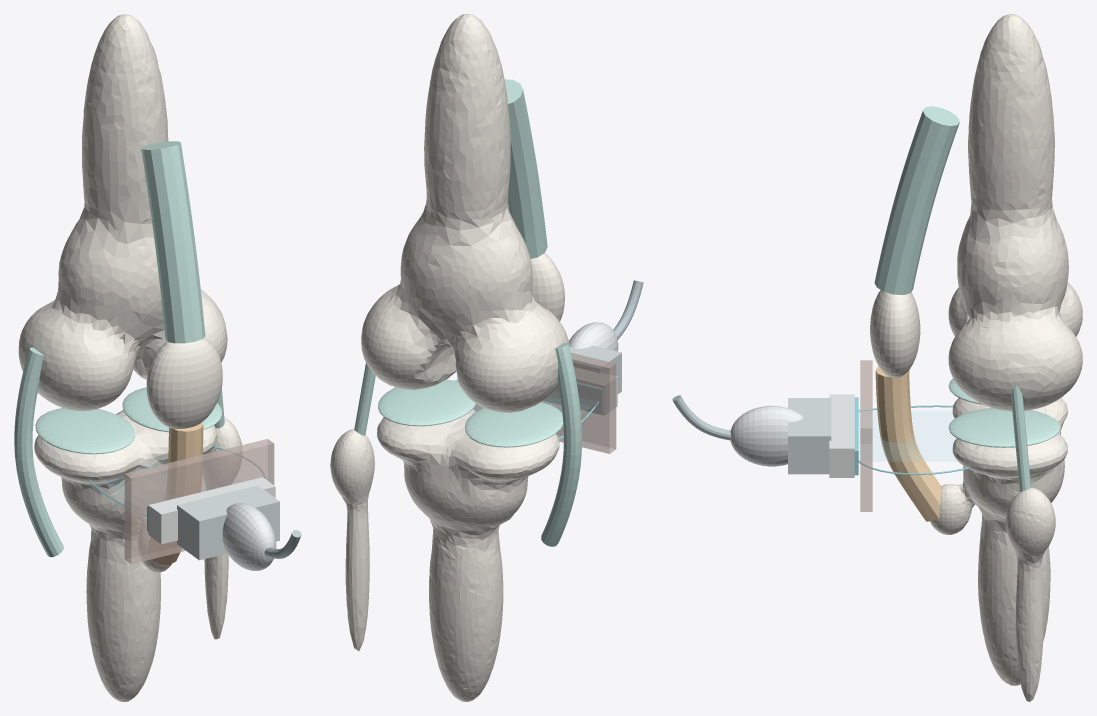
The model's file is knee-short.glb.
3 renders of one model, left to right at view 1: azimuth 30°, elevation 25°; view 2: azimuth 150°, elevation 25°; view 3: azimuth 270°, elevation 25°, orthographic. The views are drawn at different scales.
Visible parts, largest first — view 1: Femur, Tibia, Quadriceps tendon, Local skin contact patch - surrounding skin omitted, Patella - anatomical position, Medial collateral ligament, Transducer body, Tibial articular surface -0.35, Fibula, Patellar tendon, Transducer grip, Transducer head (+2 smaller); view 2: Femur, Tibia, Fibula, Quadriceps tendon, Local skin contact patch - surrounding skin omitted, Medial collateral ligament, Tibial articular surface -0.35, Tibial articular surface 0.35, Patella - anatomical position, Transducer body, Transducer grip, Transducer head (+3 smaller); view 3: Femur, Tibia, Quadriceps tendon, Fibula, Patellar tendon, Patella - anatomical position, Transducer body, Transducer grip, Tibial articular surface 0.35, Illustrative imaging plane - not a simulated sonogram, Transducer head, Local skin contact patch - surrounding skin omitted (+2 smaller).
Part boxes in pixels (x1,y1,x2,y2): Femur: (18,14,227,411); Tibia: (34,410,217,701); Quadriceps tendon: (141,141,205,343); Local skin contact patch - surrounding skin omitted: (124,439,274,564); Patella - anatomical position: (146,337,222,428); Medial collateral ligament: (14,347,63,557); Transducer body: (177,485,279,560); Tibial articular surface -0.35: (35,408,134,454); Fibula: (203,417,241,639); Patellar tendon: (147,422,203,564); Transducer grip: (222,503,276,570); Transducer head: (148,477,275,544); Femur: (361,14,569,412); Tibia: (377,409,559,701); Fibula: (330,429,374,651); Quadriceps tendon: (504,79,547,258); Local skin contact patch - surrounding skin omitted: (473,352,616,453); Medial collateral ligament: (541,343,581,546); Tibial articular surface -0.35: (465,402,563,447); Tibial articular surface 0.35: (378,379,475,426); Patella - anatomical position: (530,253,564,321); Transducer body: (568,339,621,394); Transducer grip: (569,322,618,351); Transducer head: (574,367,617,415); Femur: (948,14,1082,411); Tibia: (930,397,1067,685); Quadriceps tendon: (874,106,959,294); Fibula: (1006,487,1055,701); Patellar tendon: (875,366,941,521); Patella - anatomical position: (870,290,920,377); Transducer body: (788,398,831,474); Transducer grip: (730,405,803,466); Tibial articular surface 0.35: (948,408,1060,447); Illustrative imaging plane - not a simulated sonogram: (859,411,956,460); Transducer head: (829,394,854,477); Local skin contact patch - surrounding skin omitted: (860,360,872,511).
Size of the model in its own units: 1.89 by 5.28 by 2.93.
